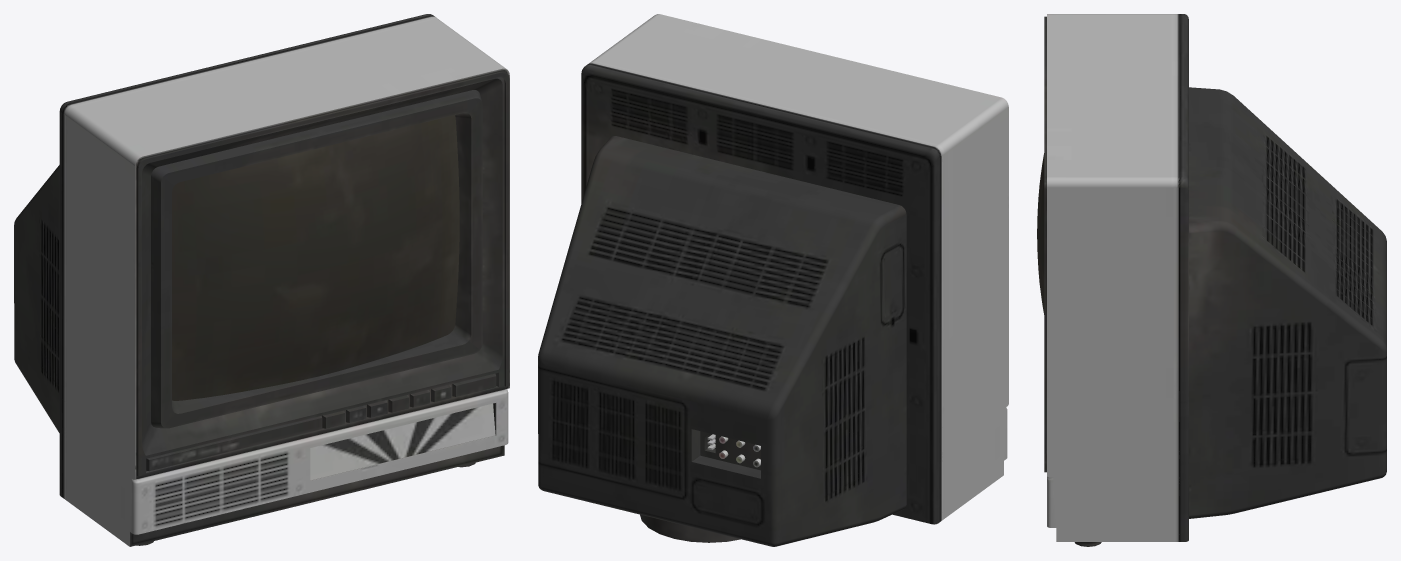
Rendered from television_02.glb.
3 views of the same model, side by side, from view 1: azimuth 30°, elevation 25°; view 2: azimuth 150°, elevation 25°; view 3: azimuth 270°, elevation 25° (orthographic). The views are drawn at different scales.
Visible parts, largest first — view 1: television_02; view 2: television_02; view 3: television_02.
Part boxes in pixels (x1,y1,x2,y2): television_02: [14, 14, 509, 546]; television_02: [538, 14, 1008, 546]; television_02: [1037, 14, 1386, 546].
Bounding box in the file's own units: 0.3997 × 0.4114 × 0.3502.
Materials: 1 (1 with a texture image).
